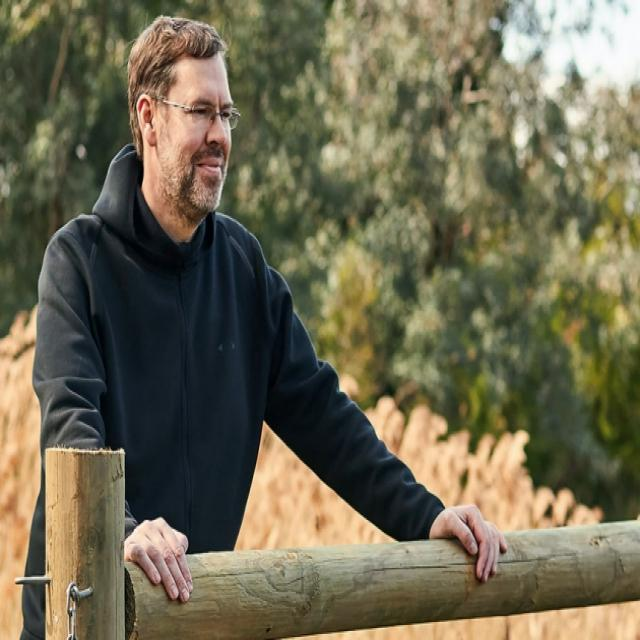adult: (19, 13, 508, 631)
